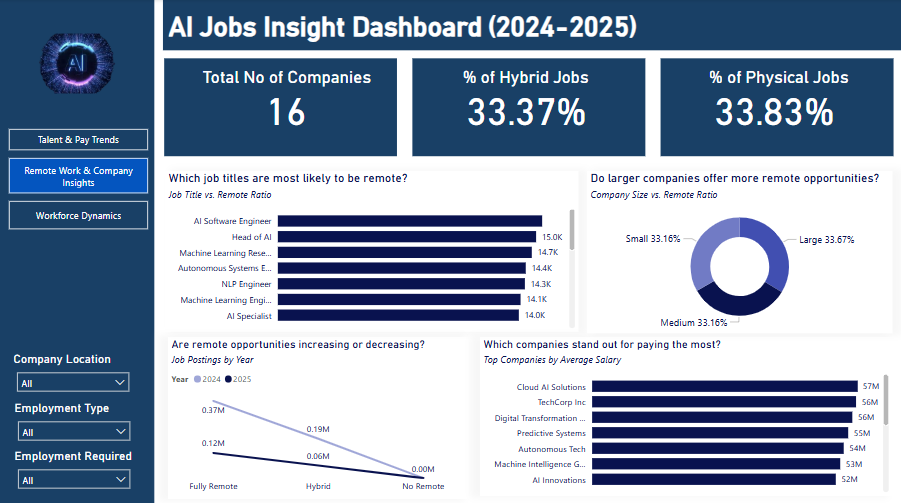

Layout of this report page (visuals, bound fields, positions):
{"tool":"powerbi","page":{"name":"Remote Work & Company Insights","canvas":[1280,720],"ordinal":1},"visuals":[{"type":"clusteredBarChart","title":"Which job titles are most likely to be remote?","fields":{"Y":["Sum(AI_Jobs.remote_ratio)"],"Category":["AI_Jobs.job_title"]},"box":[235.2,243.6,586.2,228.5],"z":0},{"type":"barChart","title":"Which companies stand out for paying the most?","fields":{"Category":["AI_Jobs.company_name"],"Y":["Sum(AI_Jobs.salary_usd)"]},"box":[682,478.7,584.6,225.1],"z":1000},{"type":"card","fields":{"Values":["AI_Jobs.Total Companies"]},"box":[240.2,79,334.3,146.1],"z":2000},{"type":"card","fields":{"Values":["AI_Jobs.Hybrid %"]},"box":[579.7,79.4,335.9,146],"z":3000},{"type":"card","fields":{"Values":["AI_Jobs.No Remote %"]},"box":[930.6,79,336,146.1],"z":4000},{"type":"lineChart","title":"Are remote opportunities increasing or decreasing?","fields":{"Y":["Sum(AI_Jobs.remote_ratio)"],"Category":["AI_Jobs.remote_status"],"Series":["Date.Year"]},"box":[240.2,478.7,426.7,230.1],"z":5000},{"type":"textbox","box":[944,92.4,322.5,38.6],"z":8000},{"type":"textbox","box":[587.9,92.4,322.5,38.6],"z":9000},{"type":"textbox","box":[246.9,92.4,322.5,38.6],"z":10000},{"type":"actionButton","title":"Career Ladder","box":[14.2,286.3,197,39.7],"z":11000},{"type":"textbox","box":[235.3,11.3,761.1,55.3],"z":12000},{"type":"slicer","title":"Employment Type","fields":{"Values":["AI_Jobs.remote_status"]},"box":[17,569.8,178.6,68],"z":13000},{"type":"actionButton","title":"Work Flexibility Insights","box":[14.2,225.4,197,49.6],"z":15000},{"type":"actionButton","title":"Talent & Pay Trends","box":[14.2,184.3,197,29.8],"z":16000},{"type":"slicer","title":"Employment Required","fields":{"Values":["AI_Jobs.education_required"]},"box":[17,637.8,178.6,69.4],"z":17000},{"type":"slicer","title":"Company Location","fields":{"Values":["AI_Jobs.company_location"]},"box":[15.6,500.3,178.6,69.4],"z":18000},{"type":"image","box":[32.6,9.9,161.6,163],"z":19000},{"type":"donutChart","title":"Do larger companies offer more remote opportunities?","fields":{"Category":["AI_Jobs.company_size"],"Y":["Sum(AI_Jobs.remote_ratio)"]},"box":[833.2,243.6,433.4,230.1],"z":20001}]}

Visuals, with their boxes in screenshot pixels (x1, y1, x2, y2), scaled from the page's 1280x720 canvas onto the 901x503 screenshot:
"Which job titles are most likely to be remote?" clusteredBarChart: bbox=[166, 170, 578, 330]
"Which companies stand out for paying the most?" barChart: bbox=[480, 334, 892, 492]
card - AI_Jobs.Total Companies: bbox=[169, 55, 404, 157]
card - AI_Jobs.Hybrid %: bbox=[408, 55, 644, 157]
card - AI_Jobs.No Remote %: bbox=[655, 55, 892, 157]
"Are remote opportunities increasing or decreasing?" lineChart: bbox=[169, 334, 469, 495]
textbox: bbox=[664, 65, 891, 92]
textbox: bbox=[414, 65, 641, 92]
textbox: bbox=[174, 65, 401, 92]
"Career Ladder" actionButton: bbox=[10, 200, 149, 228]
textbox: bbox=[166, 8, 701, 47]
"Employment Type" slicer: bbox=[12, 398, 138, 446]
"Work Flexibility Insights" actionButton: bbox=[10, 157, 149, 192]
"Talent & Pay Trends" actionButton: bbox=[10, 129, 149, 150]
"Employment Required" slicer: bbox=[12, 446, 138, 494]
"Company Location" slicer: bbox=[11, 350, 137, 398]
image: bbox=[23, 7, 137, 121]
"Do larger companies offer more remote opportunities?" donutChart: bbox=[586, 170, 892, 331]
